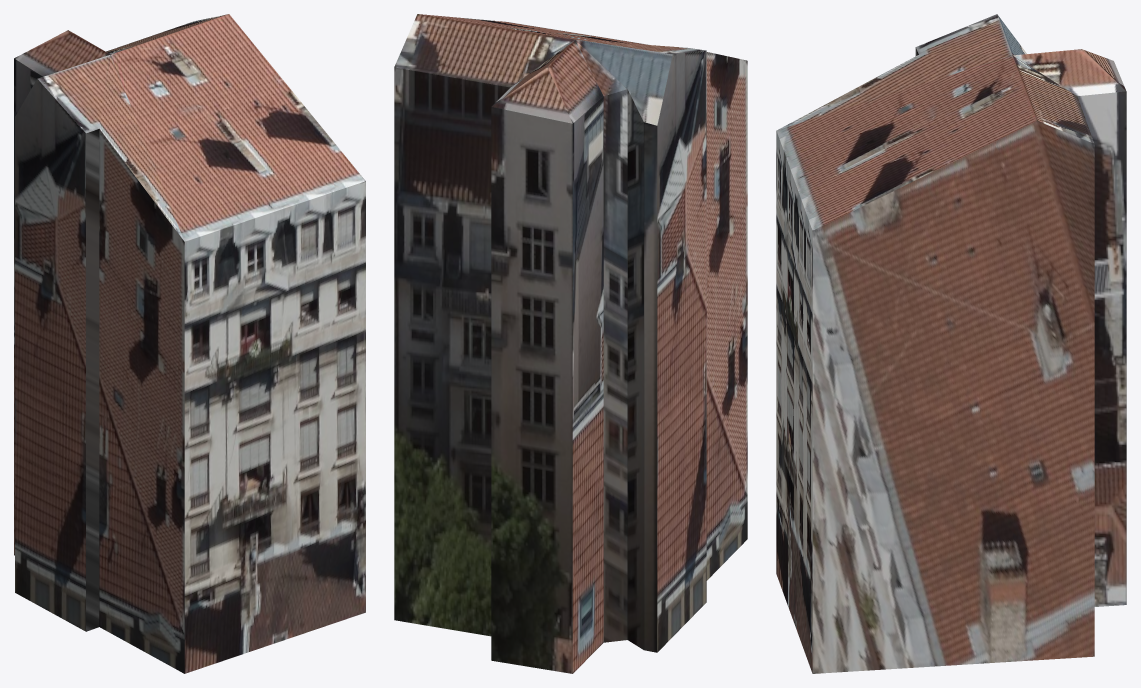
3 renders of one model, left to right at view 1: azimuth 30°, elevation 25°; view 2: azimuth 150°, elevation 25°; view 3: azimuth 270°, elevation 25°, orthographic. The views are drawn at different scales.
Parts seen in each view (by area): view 1: Z_UP; view 2: Z_UP; view 3: Z_UP.
Part boxes in pixels (x1,y1,x2,y2): Z_UP: (14, 14, 365, 673); Z_UP: (394, 14, 747, 673); Z_UP: (776, 14, 1126, 673).
Size of the model in its own units: 13.7 by 28.42 by 16.65.
Materials: 2 (1 with a texture image).
